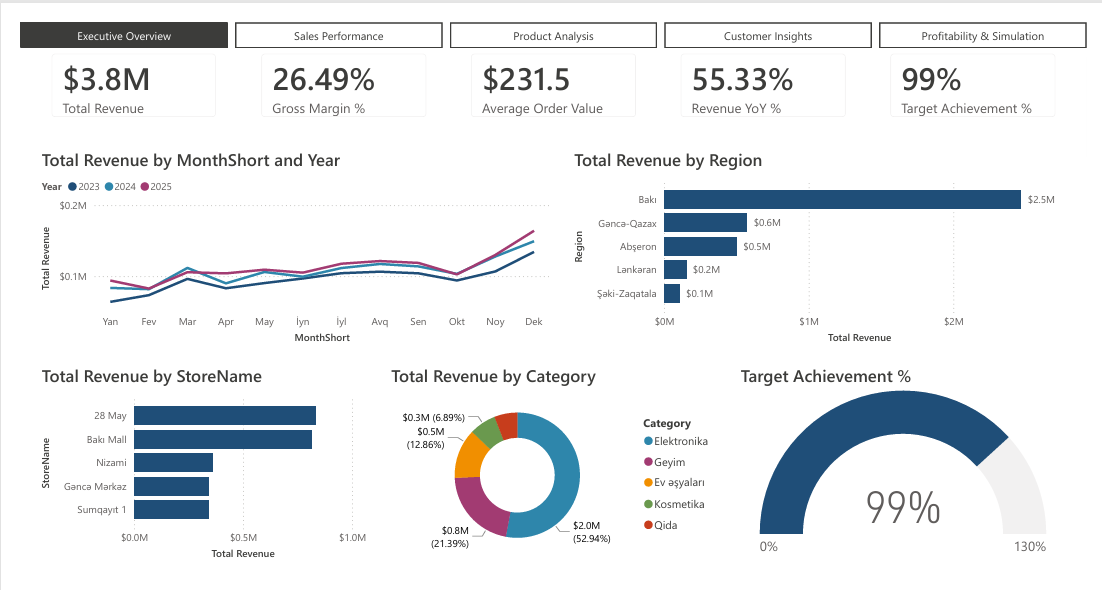

This screenshot's page, from the dashboard's own definition file:
{"tool":"powerbi","page":{"name":"Executive Overview","canvas":[1280,720],"ordinal":0},"visuals":[{"type":"cardVisual","fields":{"Data":["_Measures.Total Revenue"]},"box":[20,20,231.5,110.5],"z":0},{"type":"cardVisual","fields":{"Data":["_Measures.Revenue YoY %"]},"box":[776,20,232,110],"z":1000},{"type":"cardVisual","fields":{"Data":["_Measures.Gross Margin %"]},"box":[272,20,232,110],"z":2000},{"type":"cardVisual","fields":{"Data":["_Measures.Average Order Value"]},"box":[524,20,232,110],"z":3000},{"type":"cardVisual","fields":{"Data":["_Measures.Target Achievement %"]},"box":[1028,20,232,110],"z":4000},{"type":"clusteredBarChart","fields":{"Category":["Dim_Store.Region"],"Y":["_Measures.Total Revenue"]},"box":[660,150,600,240],"z":5000},{"type":"lineChart","fields":{"Category":["Dim_Date.MonthShort"],"Y":["_Measures.Total Revenue"],"Series":["Dim_Date.Year"]},"box":[20,150,620,240],"z":6000},{"type":"clusteredBarChart","fields":{"Category":["Dim_Store.StoreName"],"Y":["_Measures.Total Revenue"]},"box":[20,410,400,240],"z":7000},{"type":"donutChart","fields":{"Category":["Dim_Category.Category"],"Y":["_Measures.Total Revenue"]},"box":[440,410,400,240],"z":8000},{"type":"gauge","fields":{"Y":["_Measures.Target Achievement %"]},"box":[860,410,400,240],"z":9000},{"type":"pageNavigator","box":[0,0,1280.5,30.7],"z":10000}]}

Visuals, with their boxes on the page's 1280x720 design canvas (x1, y1, x2, y2). These are canvas units, not pixel positions in the 1102x590 screenshot, which may show the page scaled, cropped or inside an application window:
cardVisual - _Measures.Total Revenue: <bbox>20, 20, 252, 130</bbox>
cardVisual - _Measures.Revenue YoY %: <bbox>776, 20, 1008, 130</bbox>
cardVisual - _Measures.Gross Margin %: <bbox>272, 20, 504, 130</bbox>
cardVisual - _Measures.Average Order Value: <bbox>524, 20, 756, 130</bbox>
cardVisual - _Measures.Target Achievement %: <bbox>1028, 20, 1260, 130</bbox>
clusteredBarChart - Dim_Store.Region x _Measures.Total Revenue: <bbox>660, 150, 1260, 390</bbox>
lineChart - Dim_Date.MonthShort x _Measures.Total Revenue: <bbox>20, 150, 640, 390</bbox>
clusteredBarChart - Dim_Store.StoreName x _Measures.Total Revenue: <bbox>20, 410, 420, 650</bbox>
donutChart - Dim_Category.Category x _Measures.Total Revenue: <bbox>440, 410, 840, 650</bbox>
gauge - _Measures.Target Achievement %: <bbox>860, 410, 1260, 650</bbox>
pageNavigator: <bbox>0, 0, 1280, 31</bbox>
